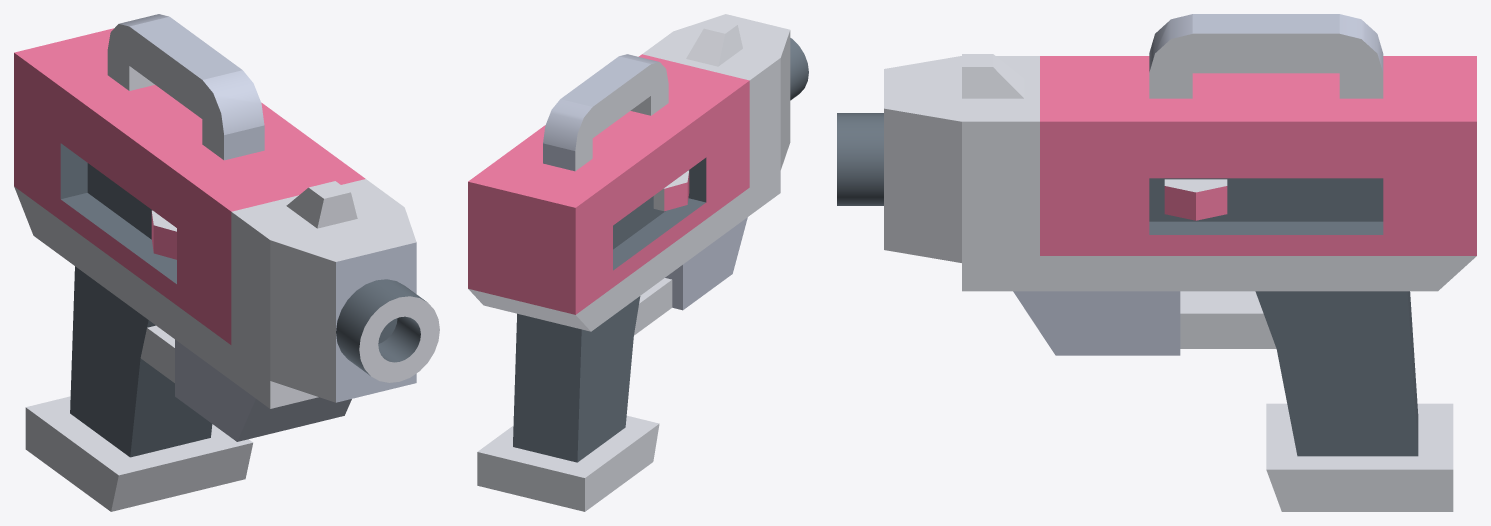
Rendered from Gun_B.fbx.
The picture shows the model from 3 angles, left to right: view 1: azimuth 30°, elevation 25°; view 2: azimuth 150°, elevation 25°; view 3: azimuth 270°, elevation 25°; orthographic projection. The views are drawn at different scales.
Parts seen in each view (by area): view 1: blasterB; view 2: blasterB; view 3: blasterB.
Part boxes in pixels (left/top/right/bottom): blasterB: left=14, top=14, right=439, bottom=511; blasterB: left=468, top=14, right=808, bottom=511; blasterB: left=837, top=14, right=1476, bottom=511.
Bounding box in the file's own units: 28.55 × 91.89 × 117.
